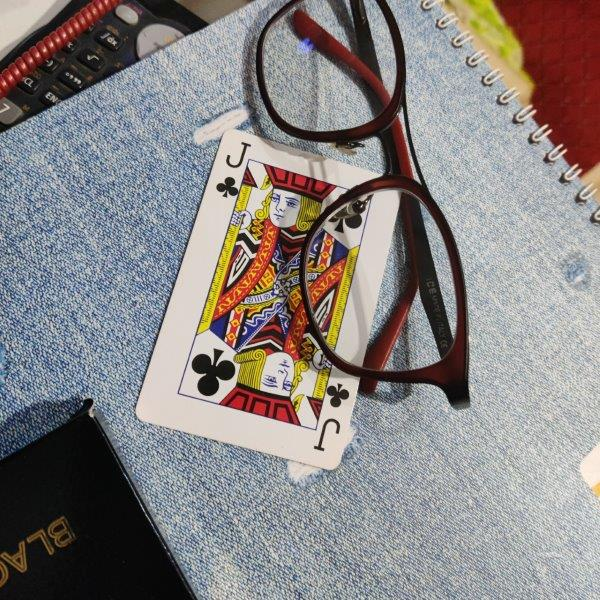Jack of Clubs: (134, 129, 401, 472)
